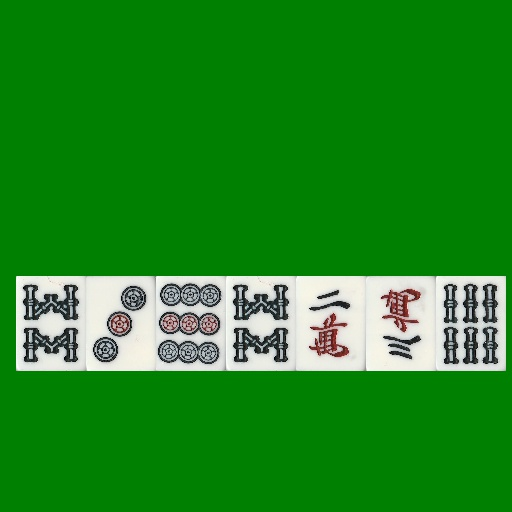2m: (296, 276, 366, 371)
3m: (366, 276, 436, 371)
3p: (86, 276, 156, 371)
6s: (436, 276, 506, 371)
8s: (16, 276, 86, 371), (226, 276, 296, 371)
9p: (156, 276, 226, 371)
